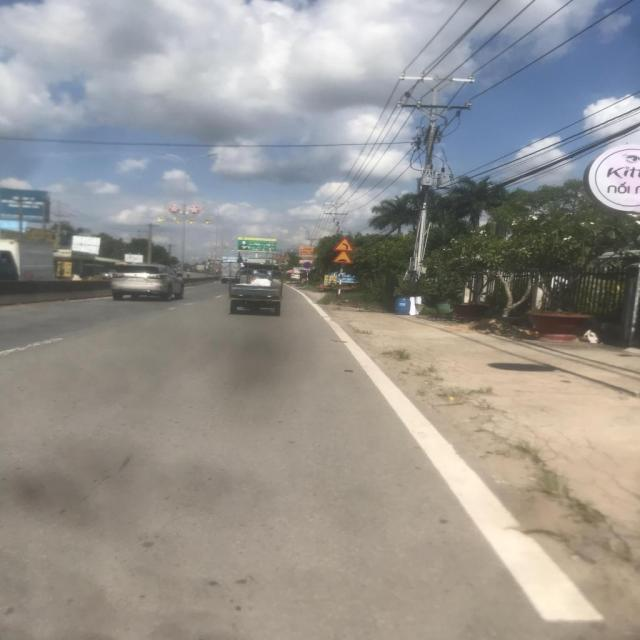201-cho-ngoat-nguy-hiem: (332, 236, 352, 252)
221-duong-go-ghe: (331, 251, 353, 265)
